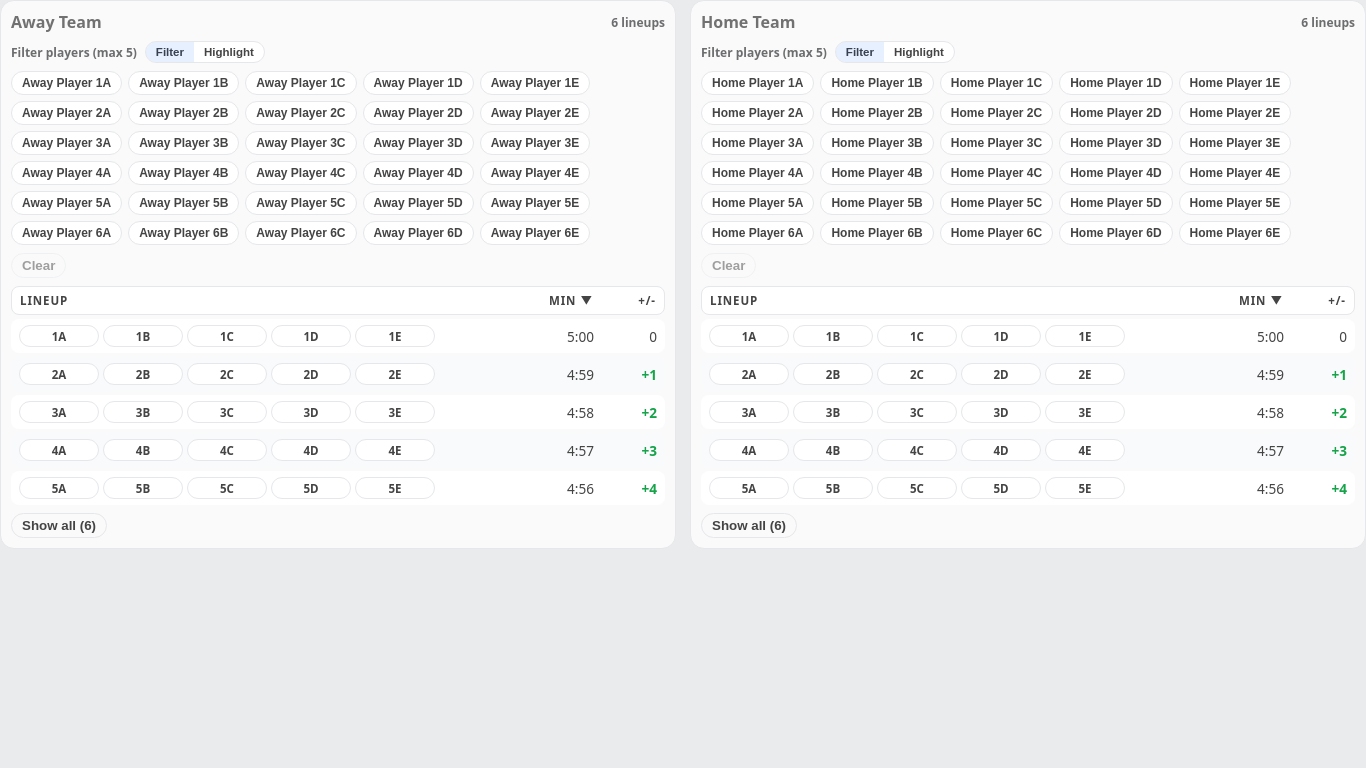
Lineups › lets selected total player pills remove the active selection
Click the button named "Away Player 1A".
click(59, 336)  # box [19,325,99,347]
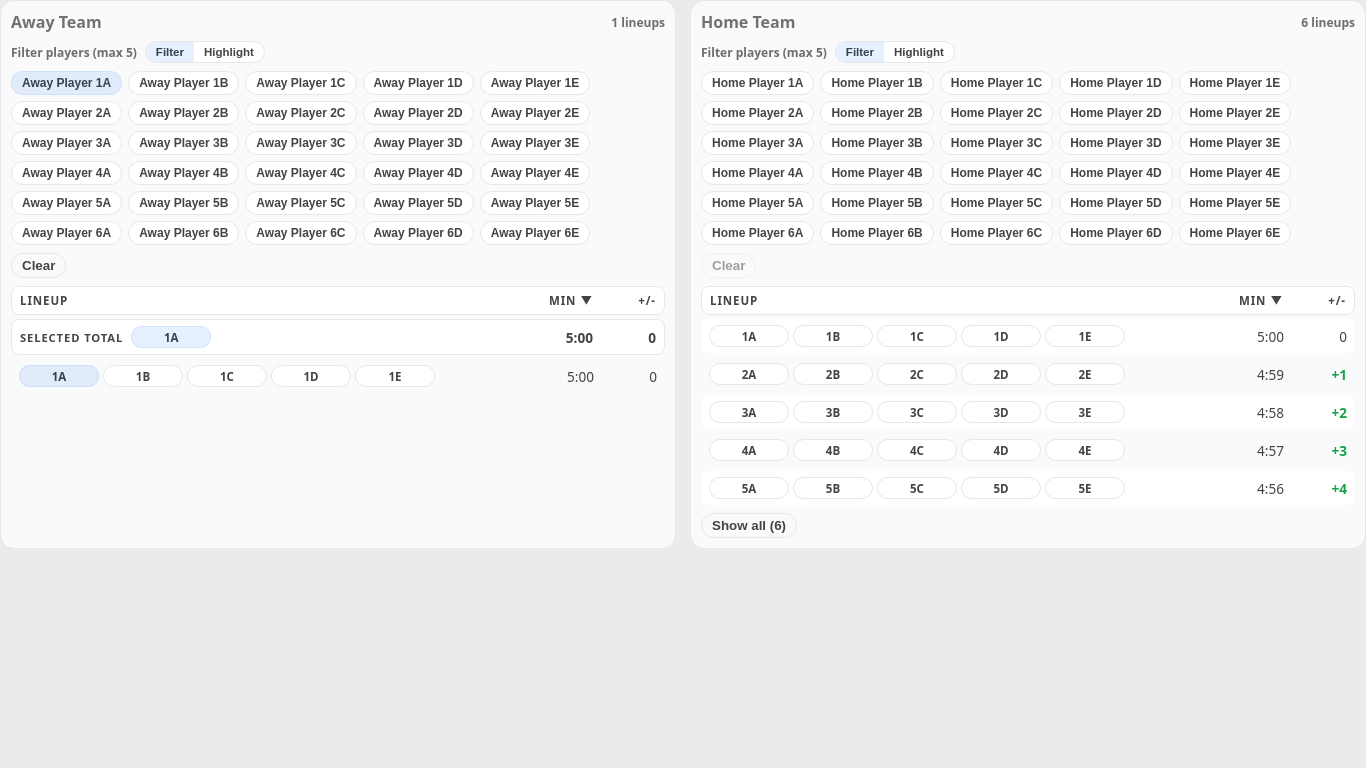
Check: the text "Selected total" is shown, box [20,330,123,344]
Click the button named "Away Player 1A".
click(171, 337)  # box [131,326,211,348]
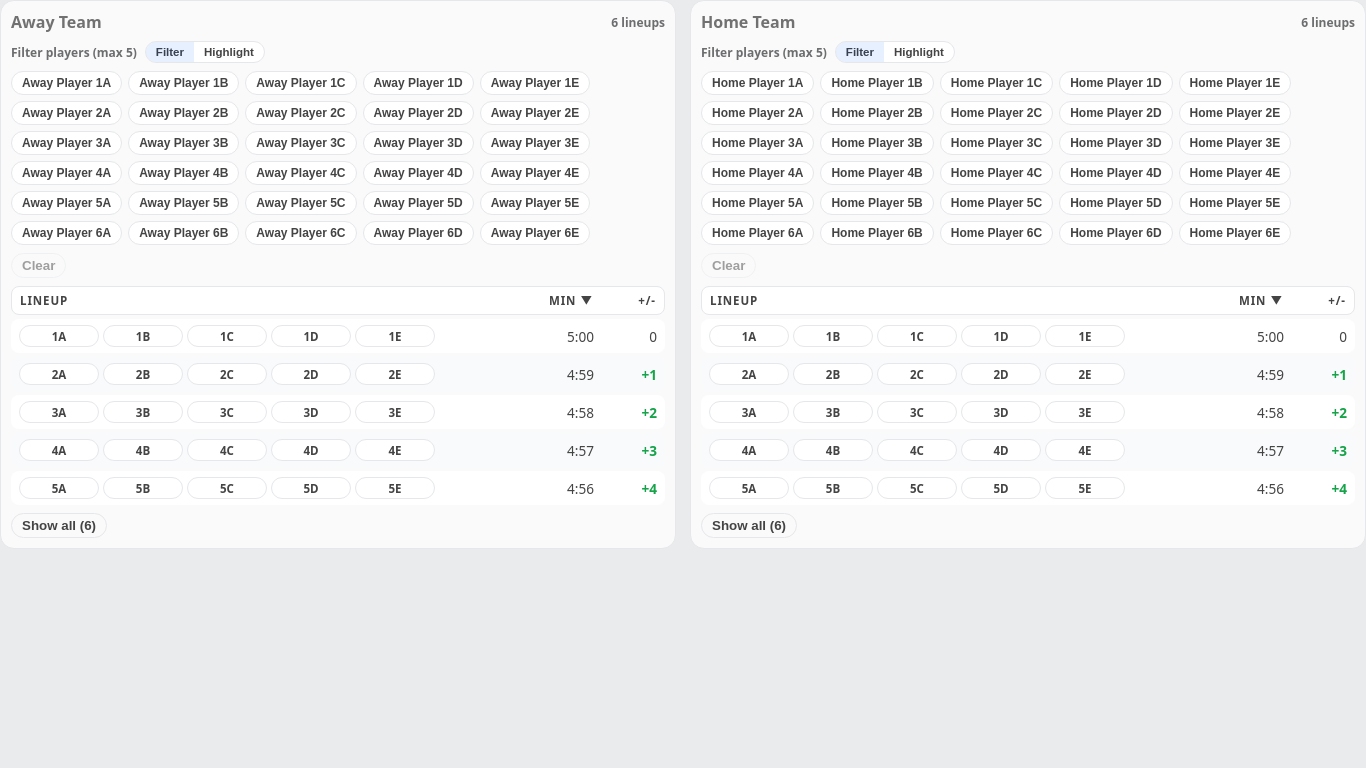
Check: the number of buttons "Away Player 1A" is 2, box [11,71,122,95]; [19,325,99,347]
Check: the text "Selected total" is gone
Check: the number of buttons "Show all (6)" is 2, box [11,513,107,538]; [701,513,797,538]
